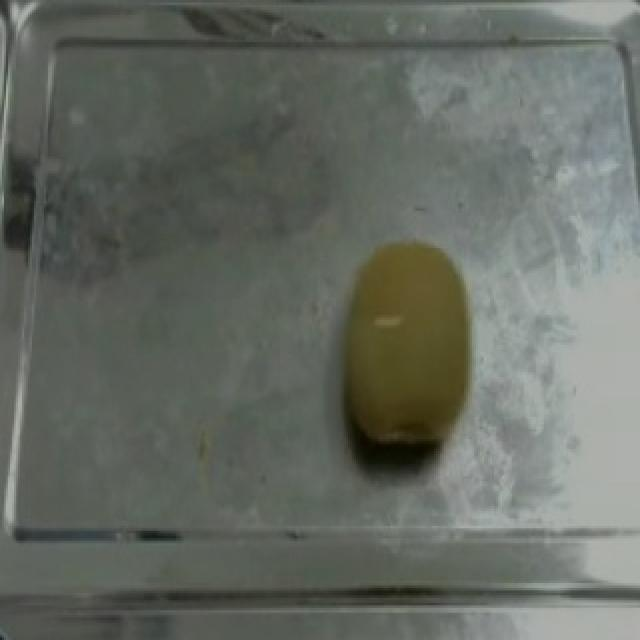Fruit: (324, 231, 490, 469)
